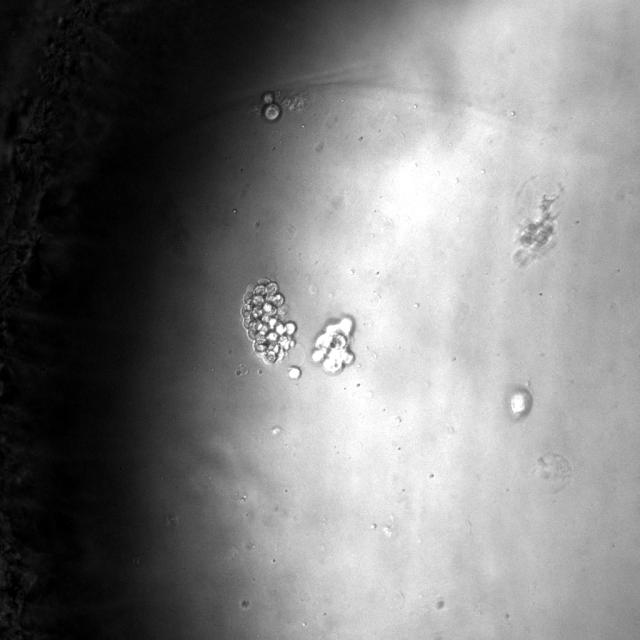organoid: (240, 278, 296, 364), (514, 196, 556, 266), (312, 316, 355, 373), (508, 386, 532, 419), (262, 91, 281, 121), (288, 366, 301, 379)
